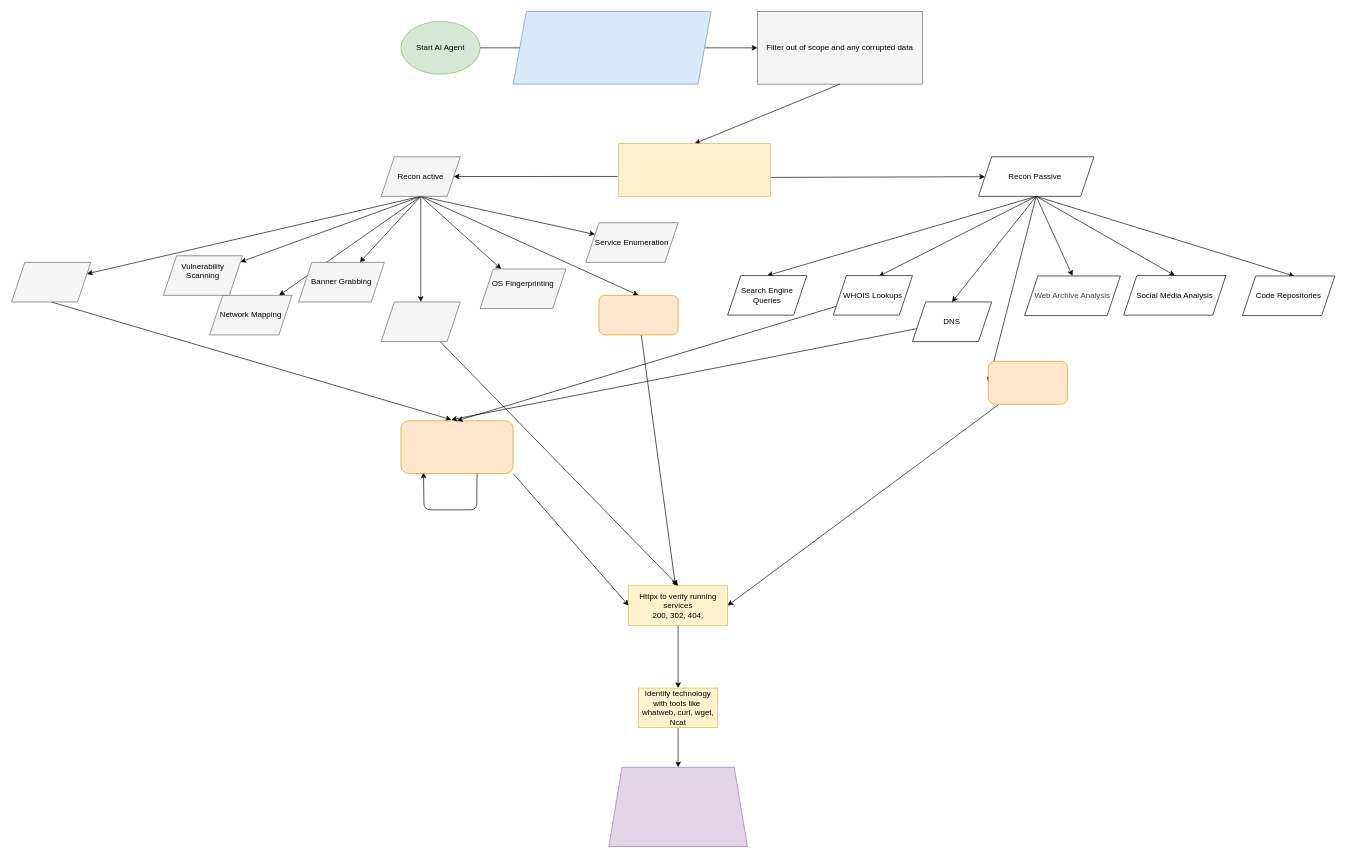
This 1346x858 diagram has some shape labels left out. Each missing label, with the centre of its shape:
AI Agent Analysis & CHOOSE NEXT STEP: the point at 677,806
Check if the website is open or not using ping, Curl: the point at 694,169
Input what is In scope and what is out of scope: the point at 611,47
Passive Recon on website like VirusTotal, Waybackurls: the point at 1028,382
Port Scanning: the point at 51,282
Recon subdirectory with tools like feroxbuster: the point at 638,315
Recon subdomains with tools like amass, subfinder, assetfinder: the point at 456,447
Web Spidering: the point at 420,321
